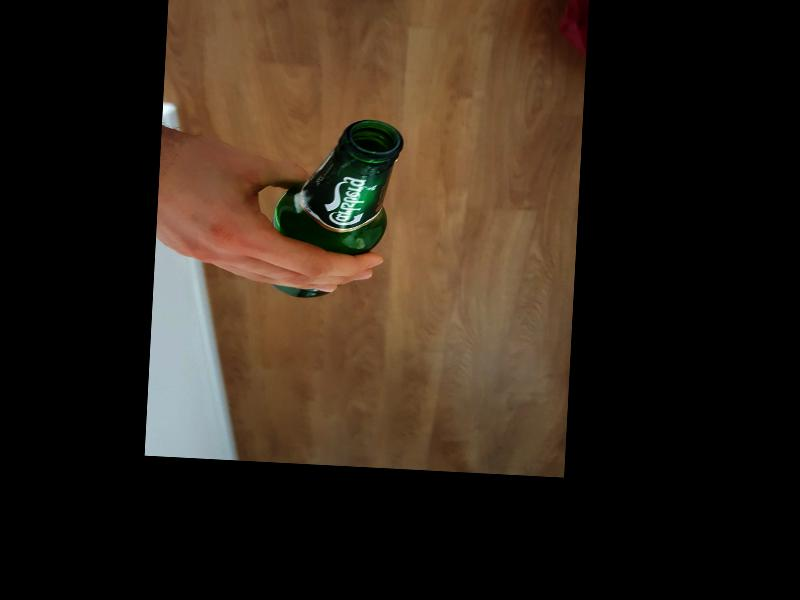Beer: (270, 115, 406, 302)
